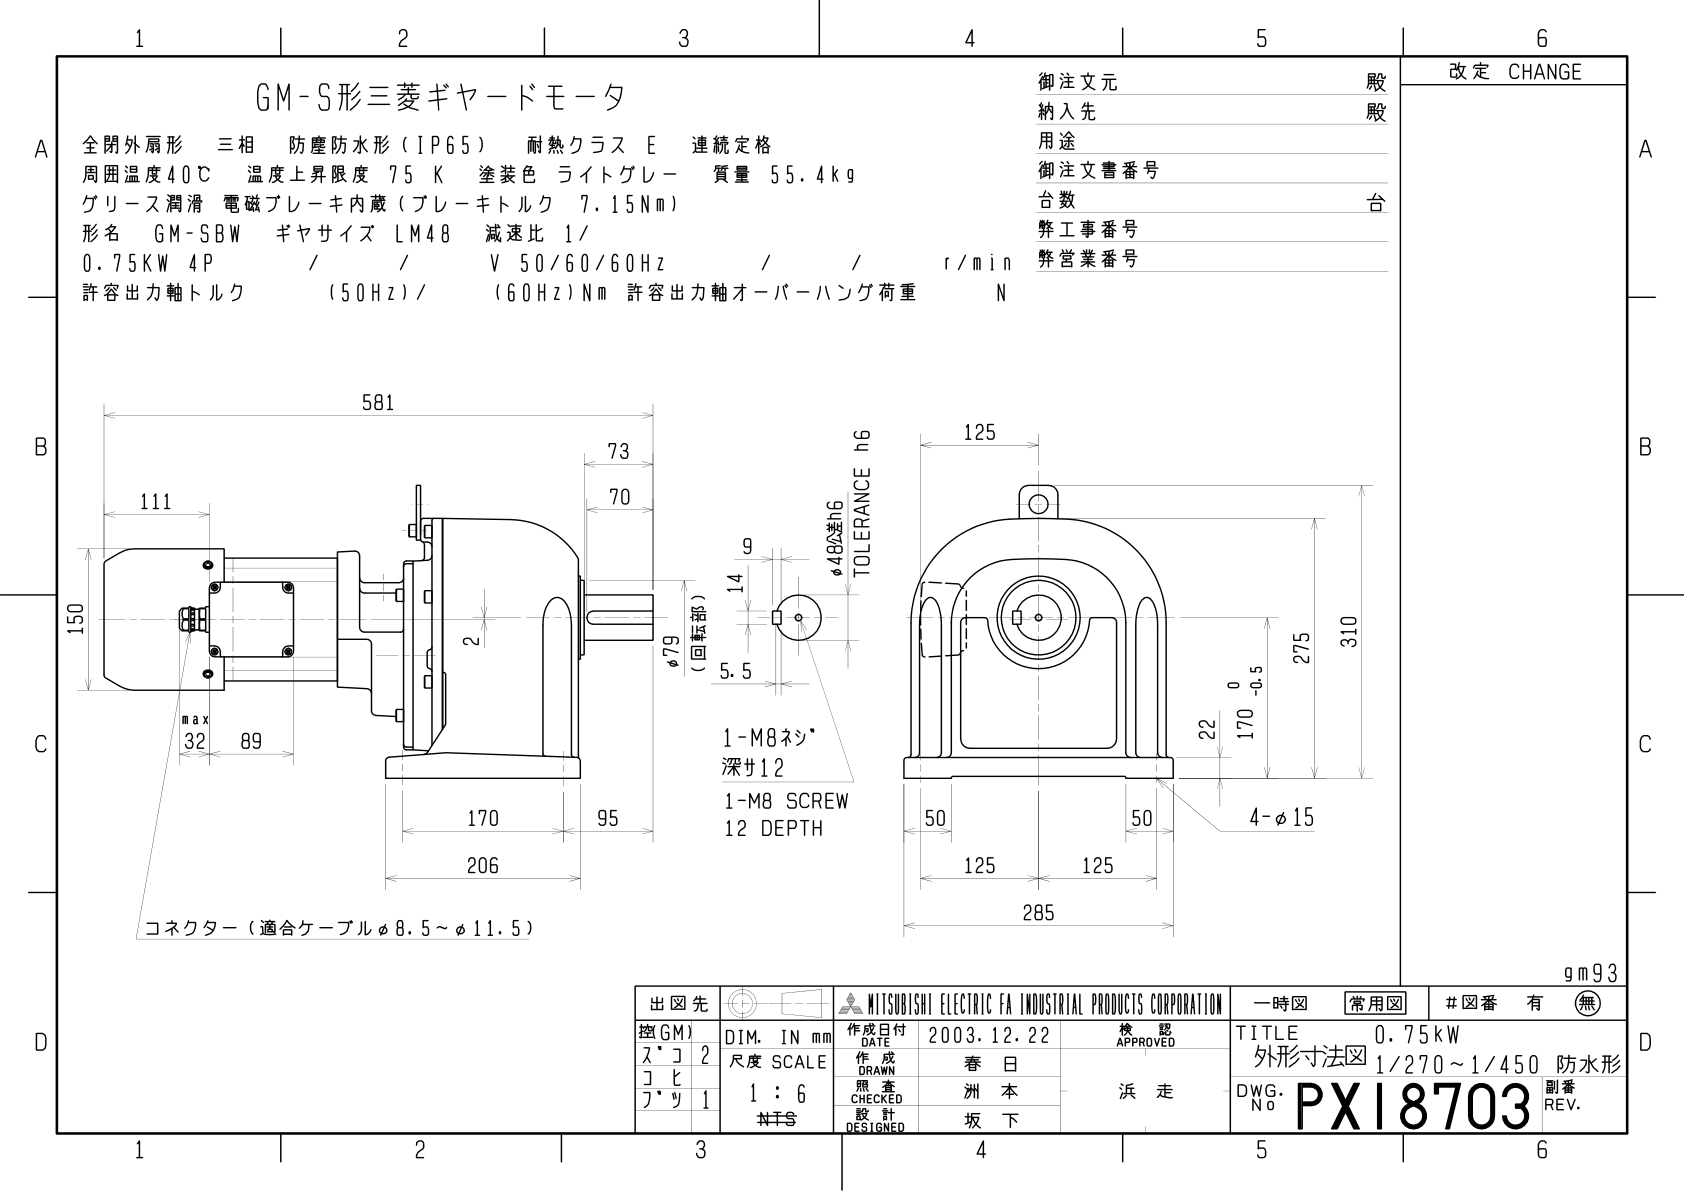GM_S_IP65＿三相_脚: (58, 347, 1386, 955)
